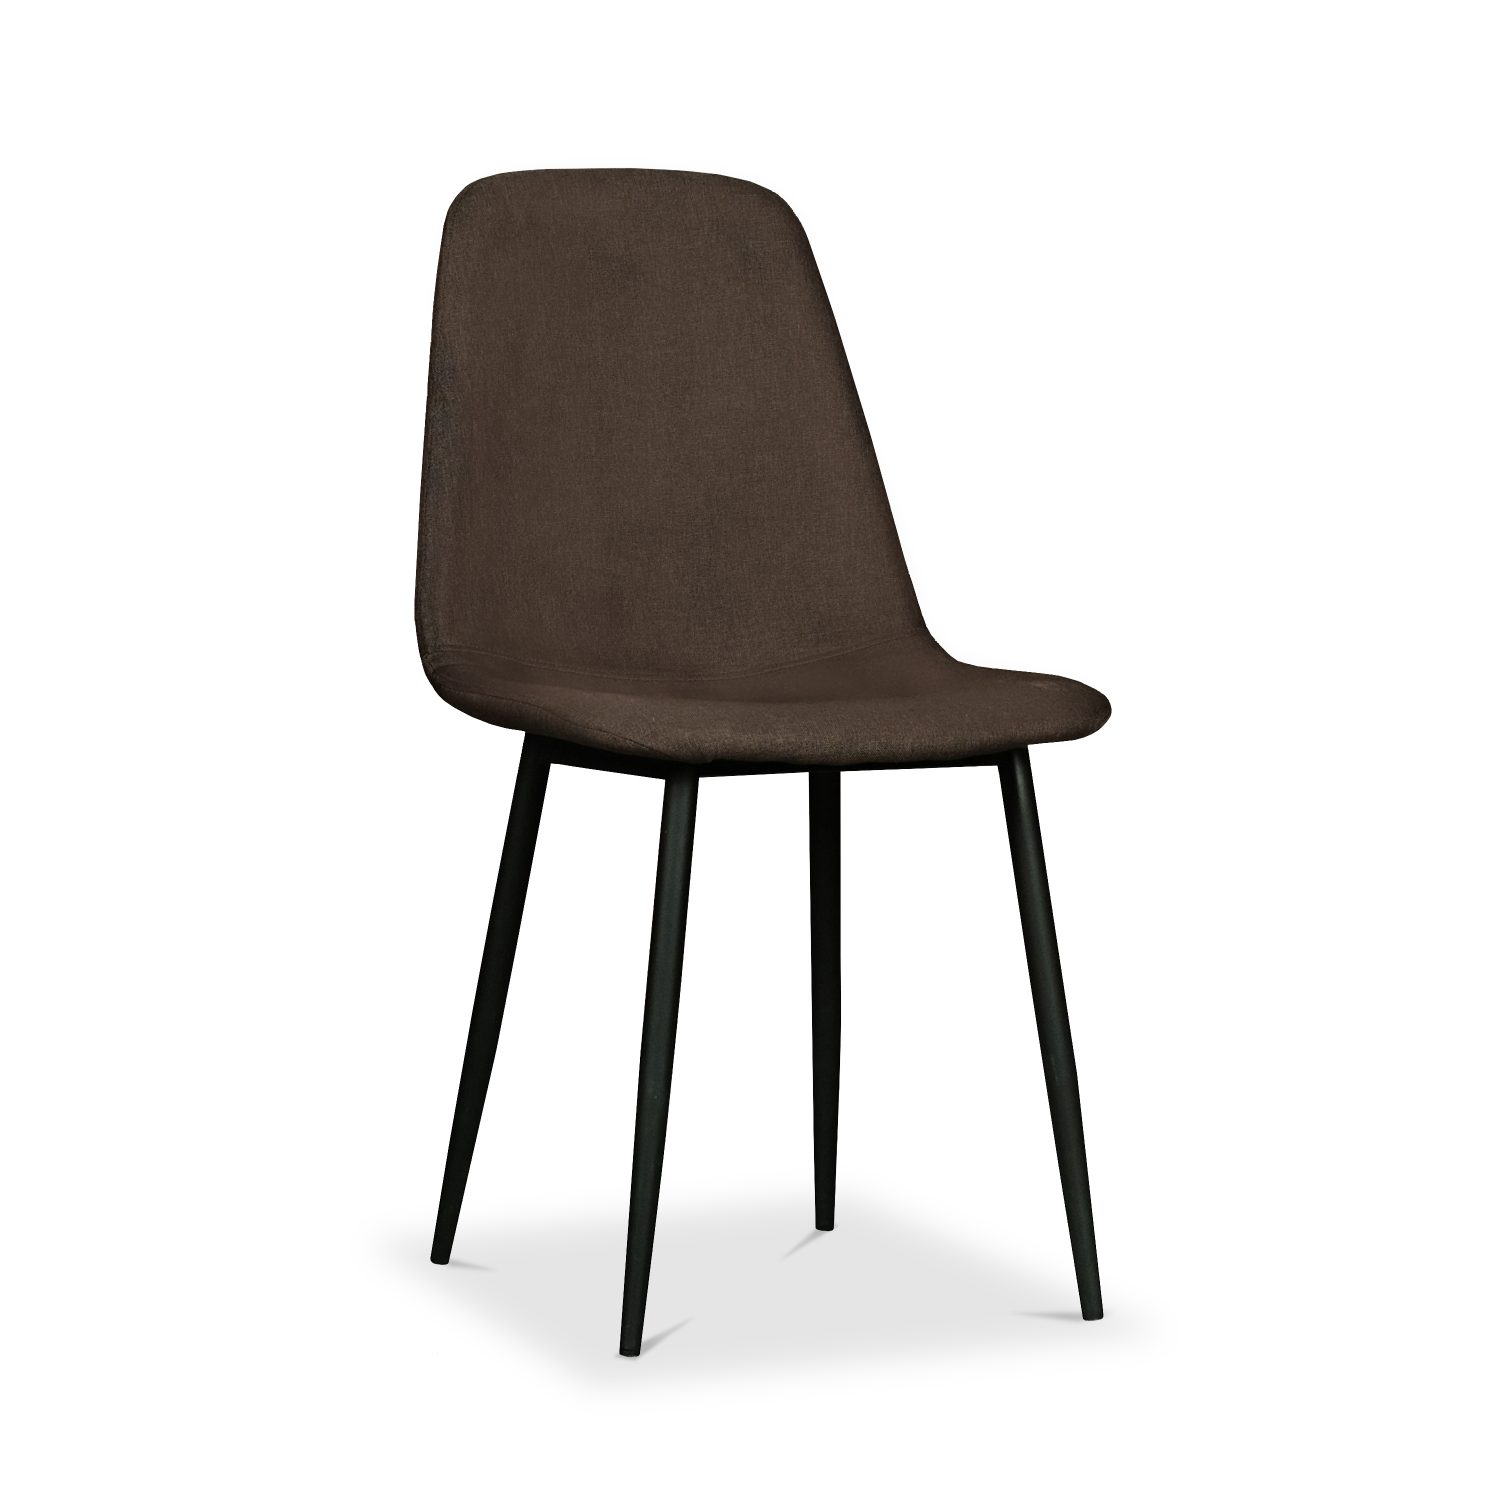kursi: (400, 168, 1115, 1364)
